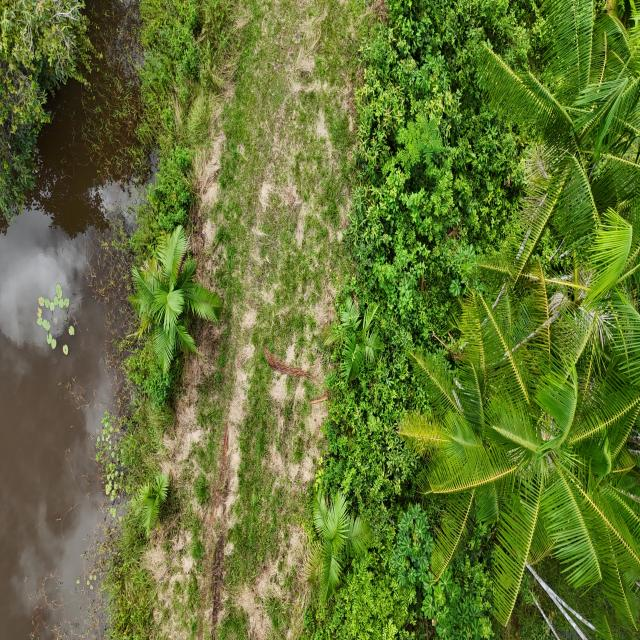vegetation: (126, 223, 223, 380)
